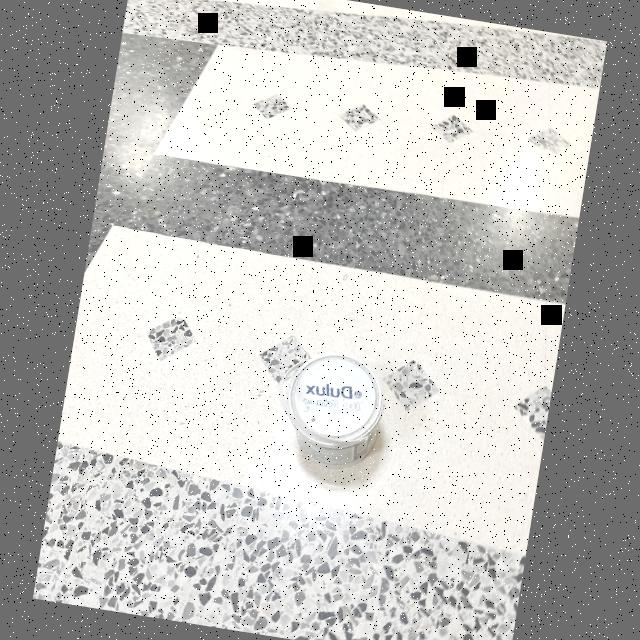paint_bucket: (264, 343, 392, 486)
